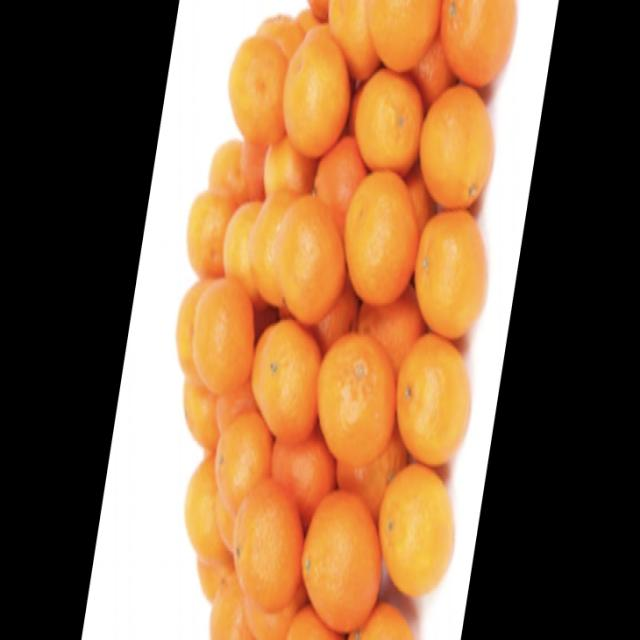fresh: (175, 2, 533, 639)
